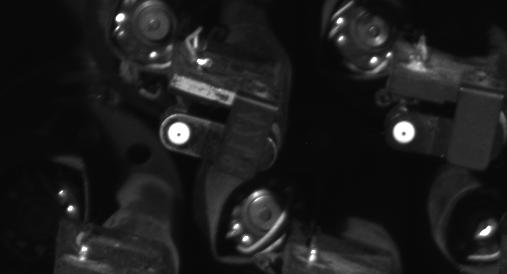fiber: (161, 117, 198, 152), (388, 118, 423, 147)
